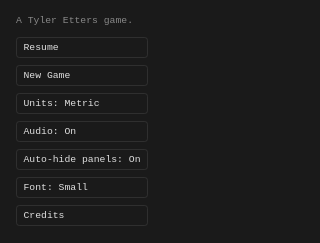
Test: Menu › shows confirmation before starting new game
Click the button "New Game" at [82, 75], box [16,65,148,86]
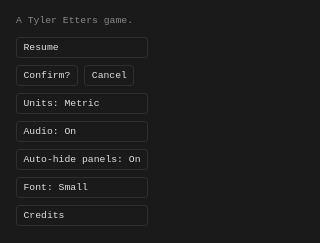
Now the button "Confirm?" is shown, box [16,65,78,86]
Now the button "Cancel" is shown, box [84,65,134,86]
